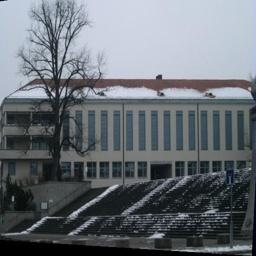building: (3, 76, 256, 198)
